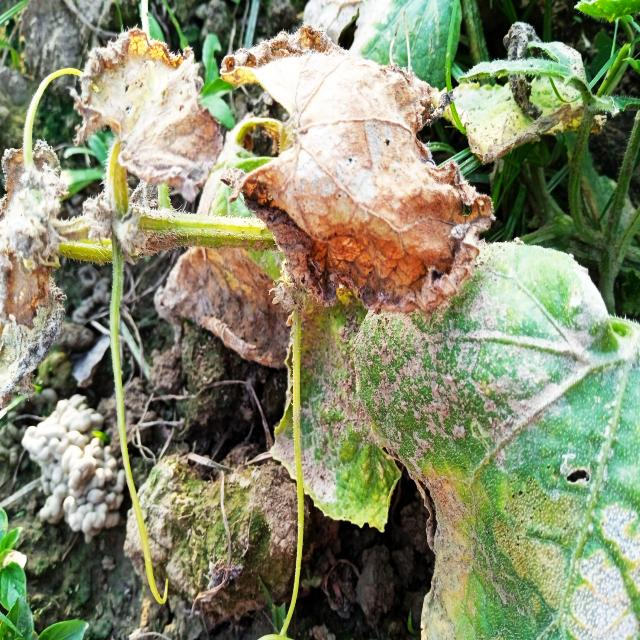Bacterial-Wilt: (215, 23, 495, 321), (63, 27, 229, 201)
